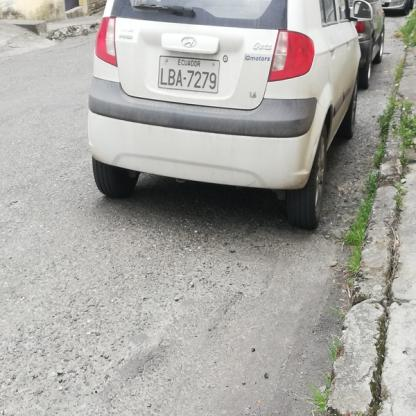Placa: (158, 54, 222, 95)
